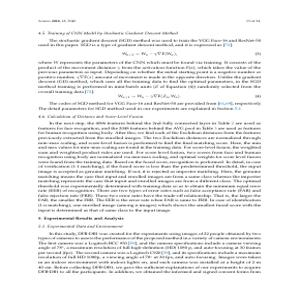text: (33, 19, 263, 276)
